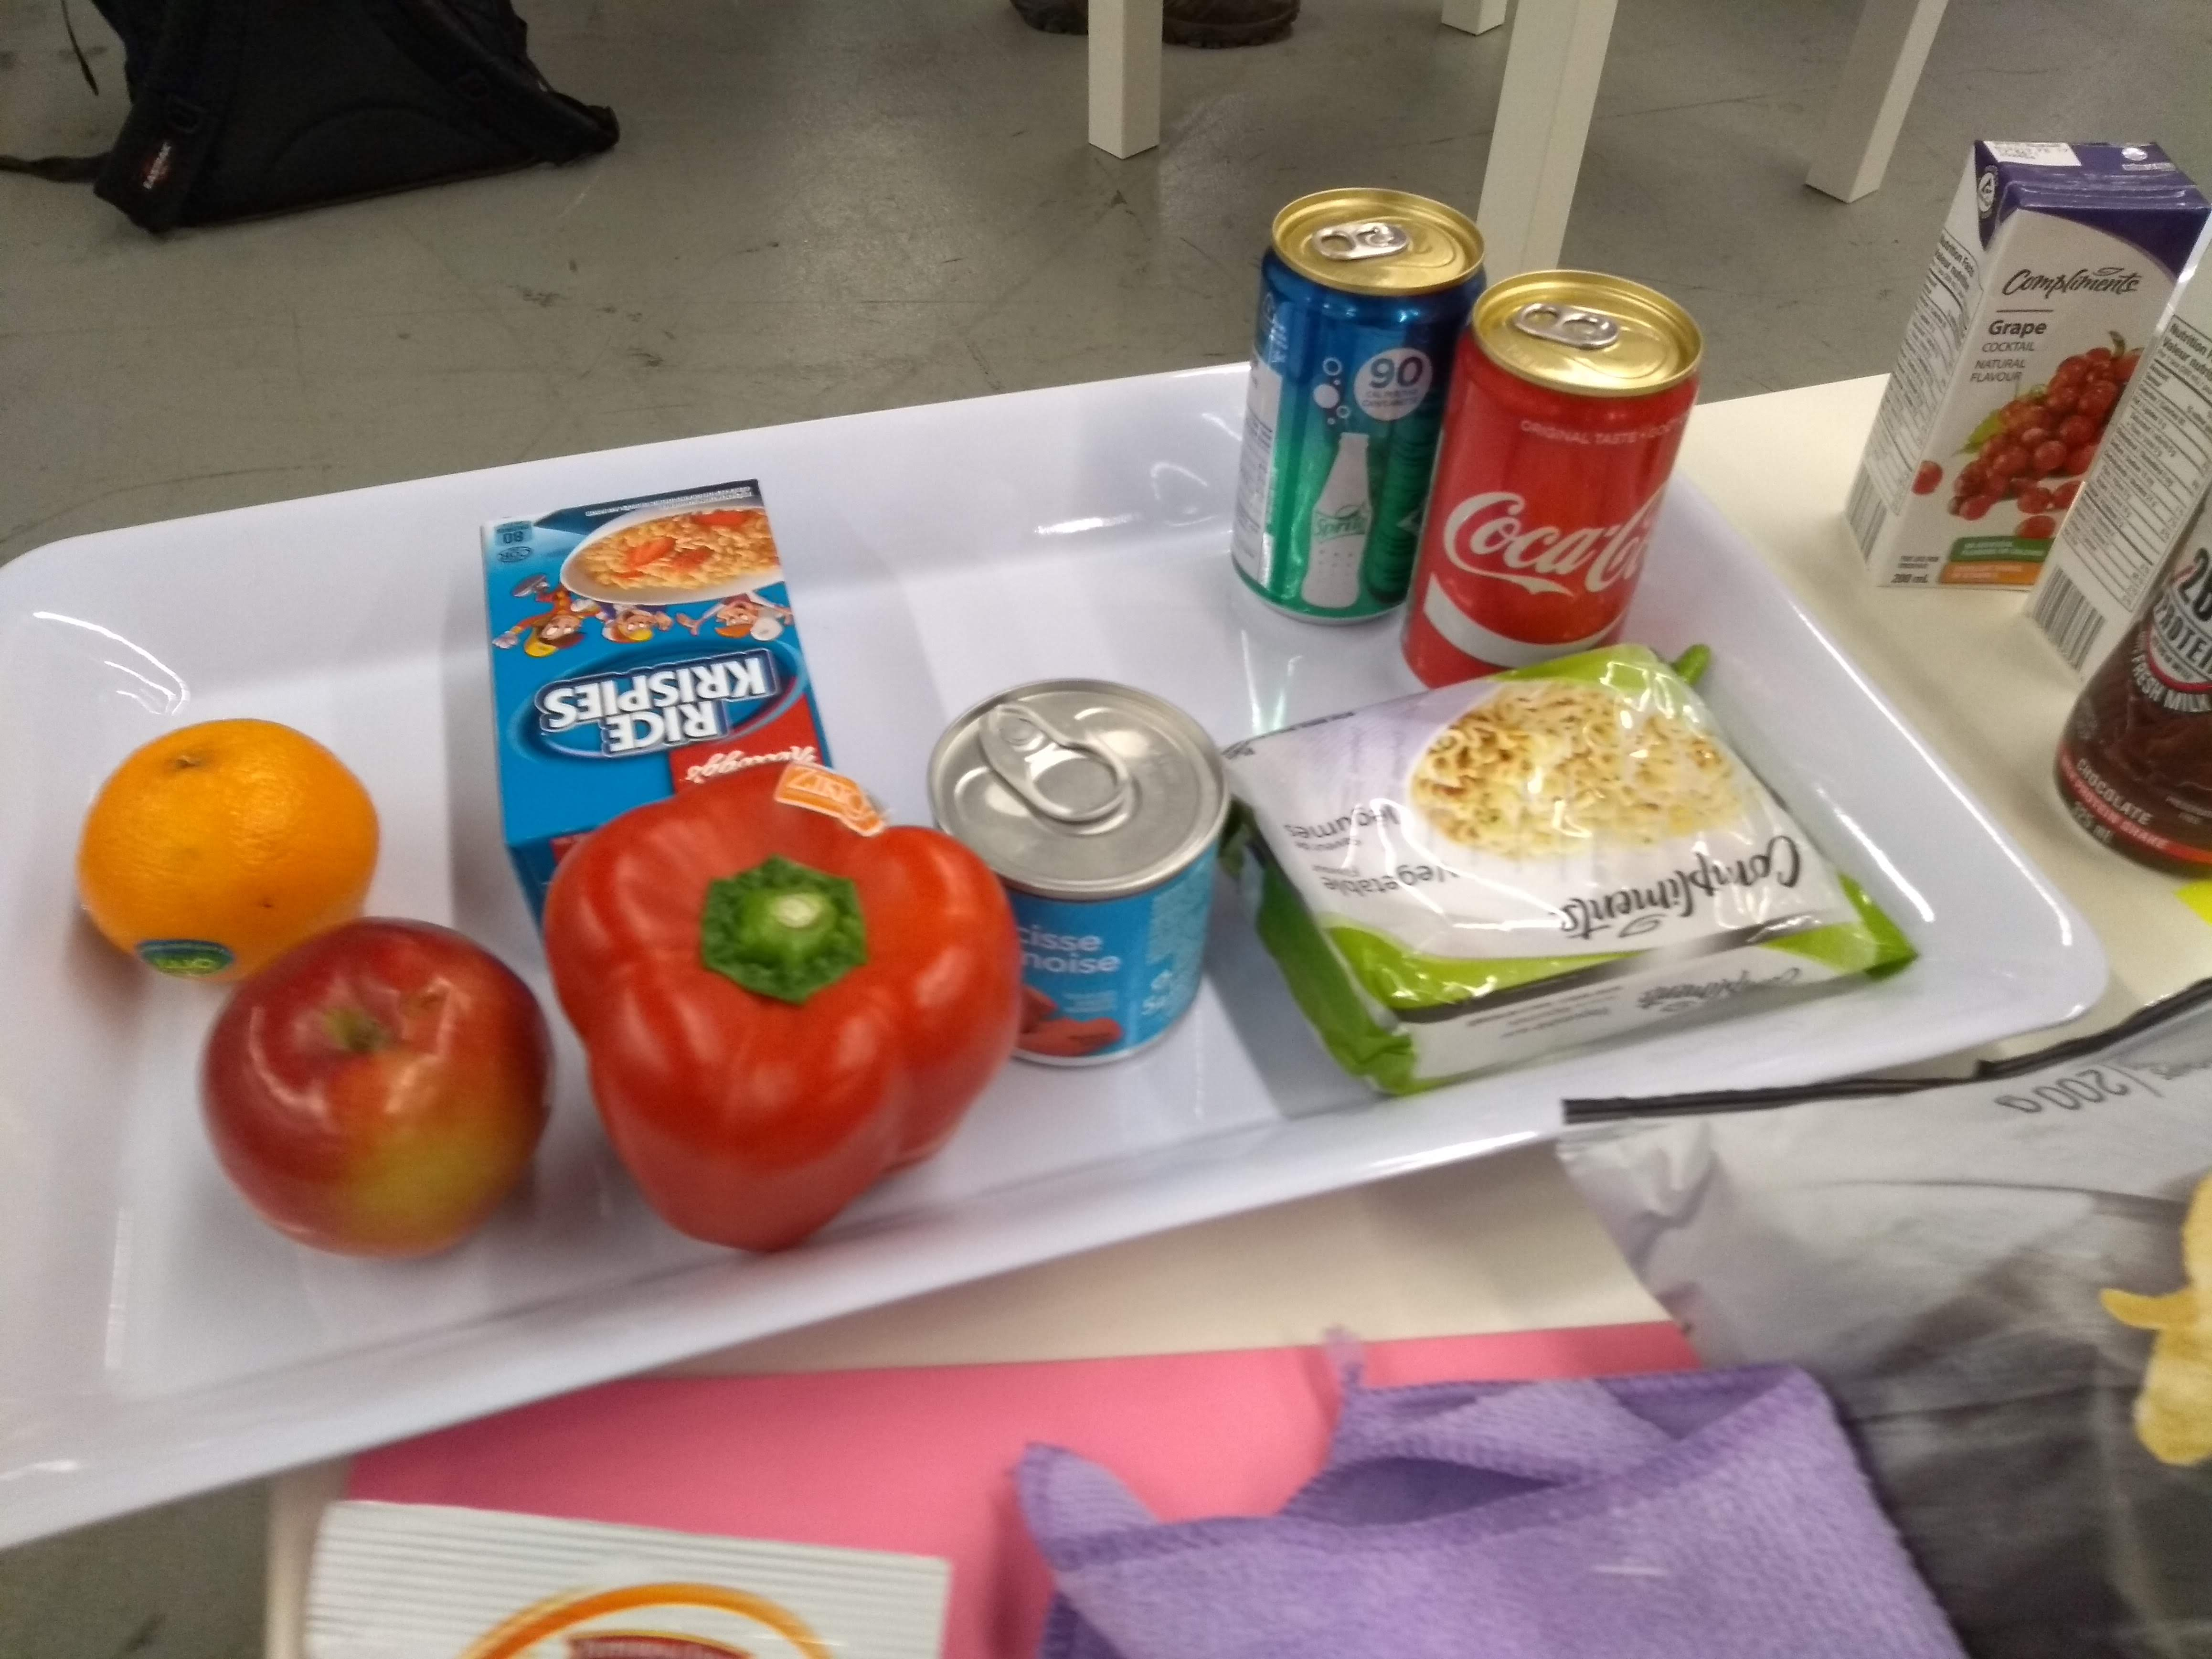apple: (183, 918, 554, 1274)
cereal: (467, 469, 840, 836)
coke: (1393, 260, 1714, 704)
grape_juice: (1838, 125, 2212, 598)
noodles: (1207, 638, 1921, 1107)
orange: (68, 716, 388, 1002)
paprika: (536, 755, 1028, 1263)
sprite: (1223, 179, 1484, 634)
